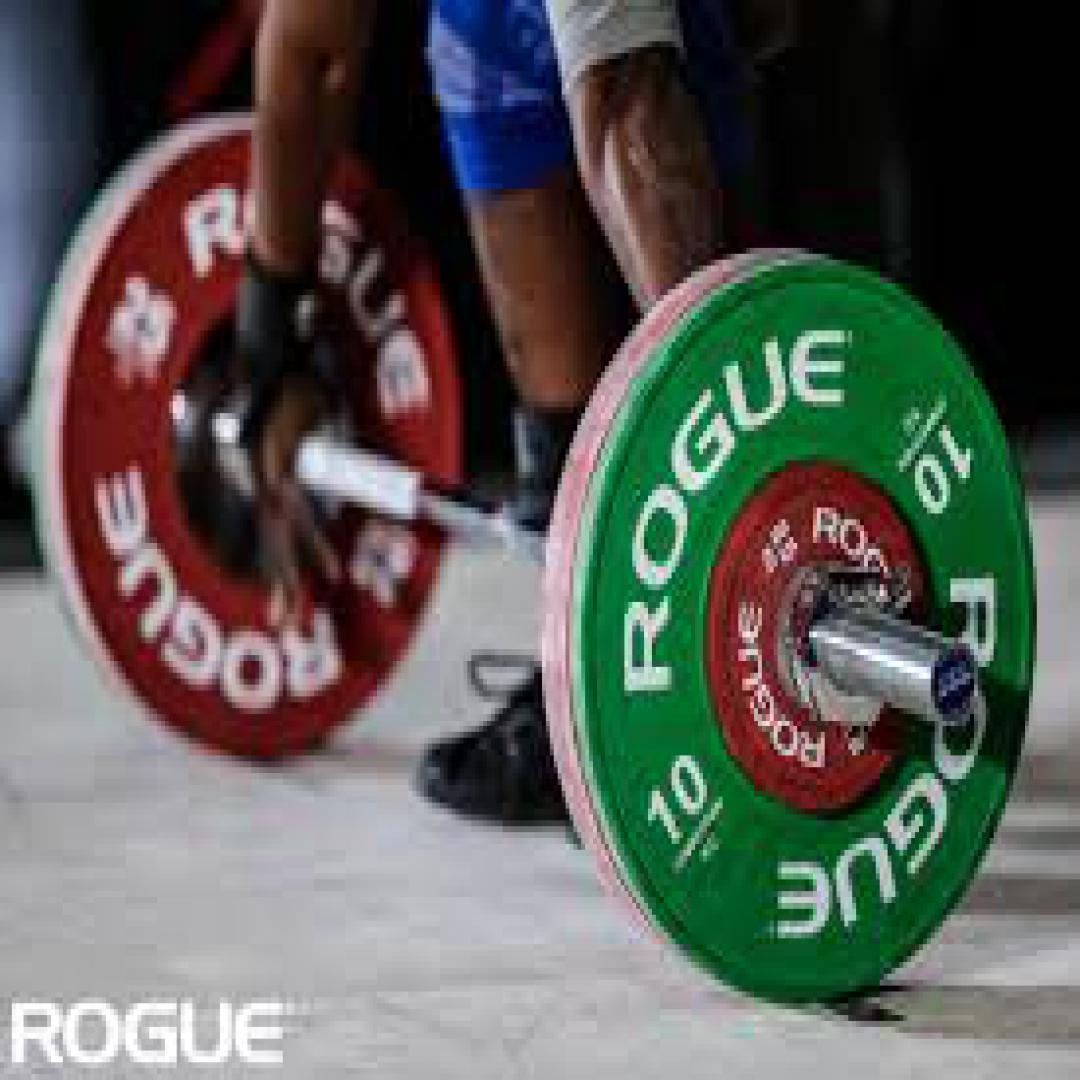Bar: (931, 637, 978, 732)
Barbell: (581, 260, 1041, 1003)
